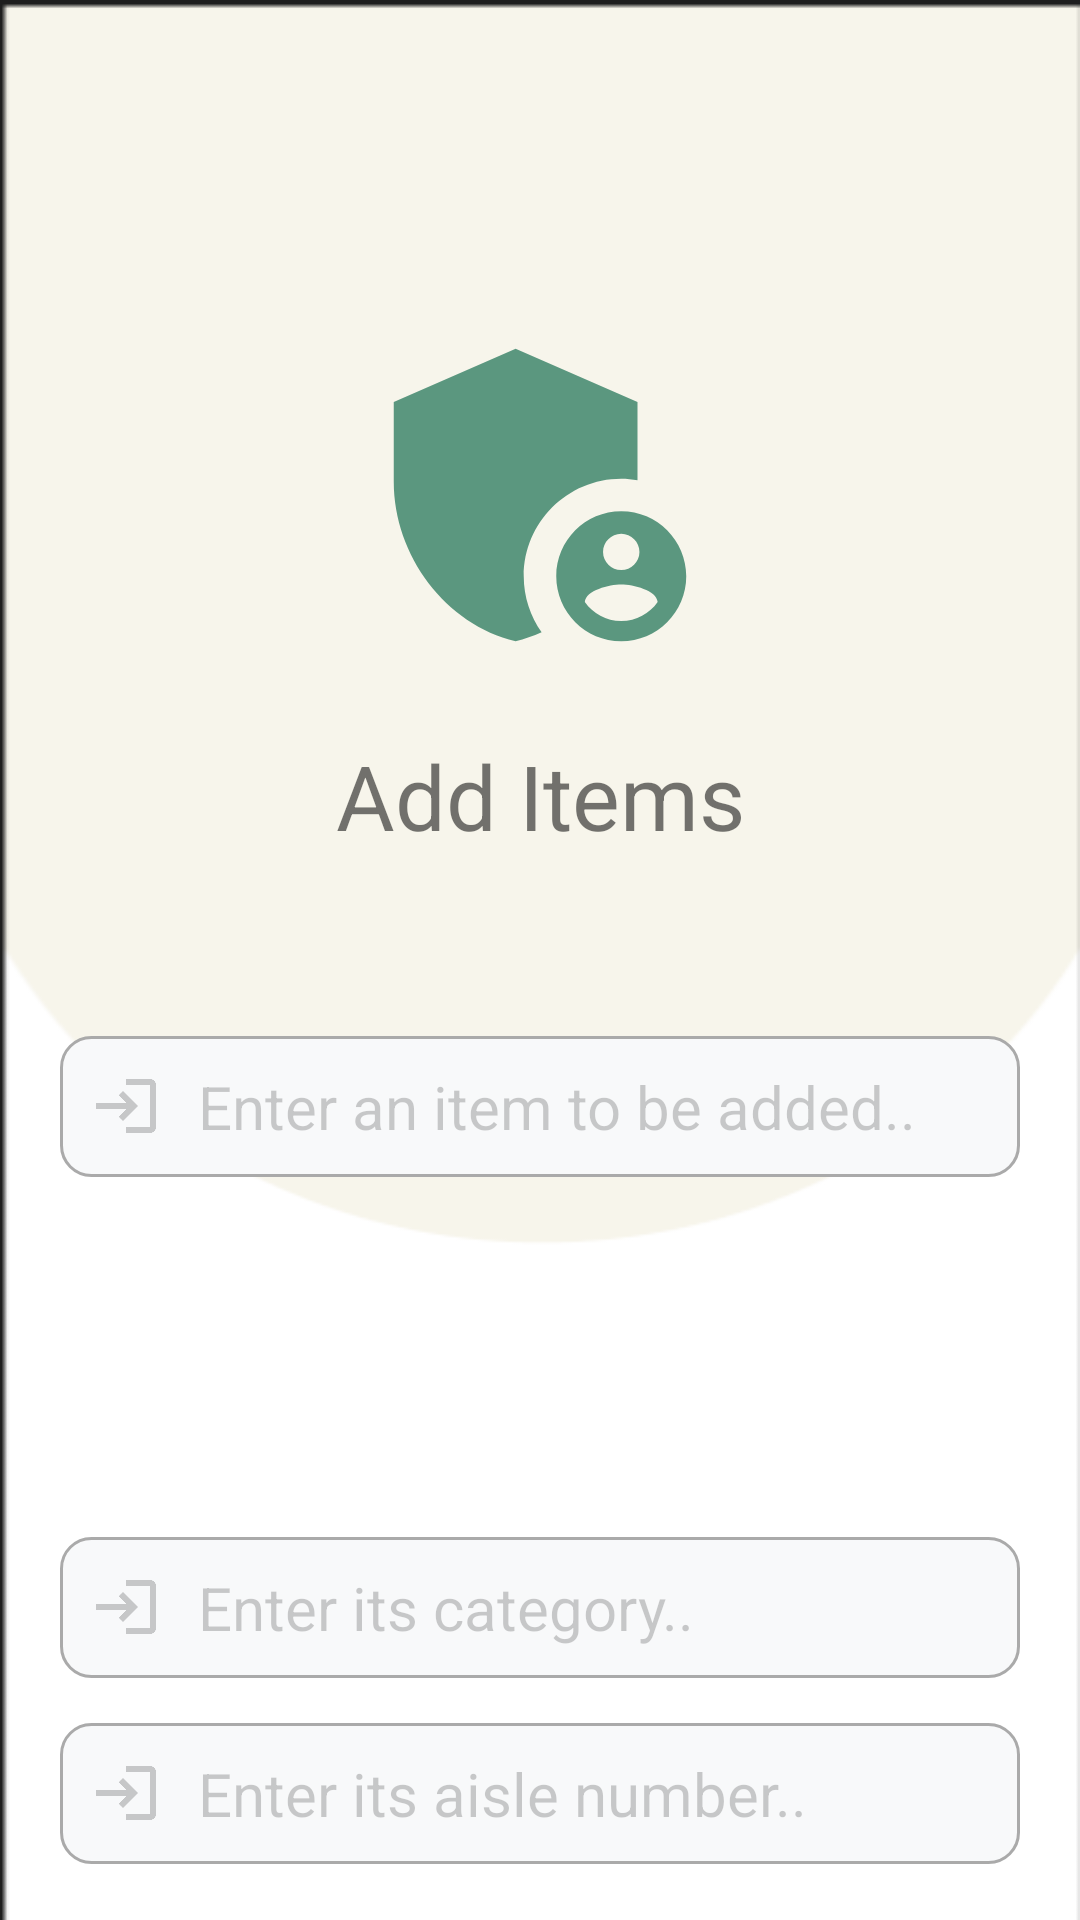

Where icons sit on this 1080×1920 app screen, as (x1, y1, x2, y2):
admin panel settings: (393, 349, 687, 642)
